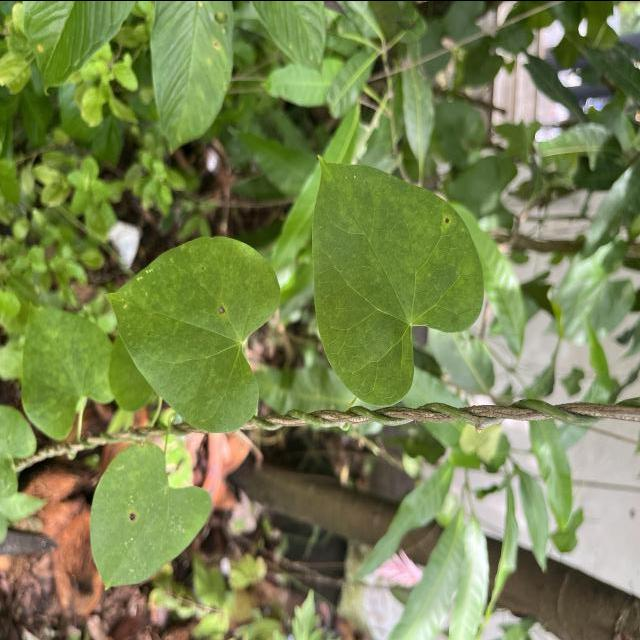Tinospora cordifolia: (310, 151, 487, 408), (103, 233, 284, 434), (88, 440, 214, 594)
